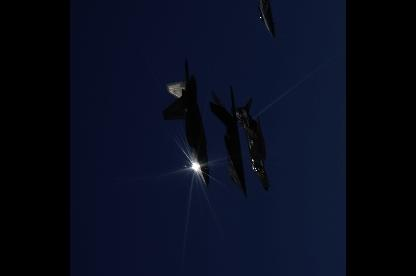E7: (209, 84, 247, 198)
F117: (235, 0, 276, 38)
F18: (161, 58, 208, 186)
F35: (230, 96, 270, 192)
